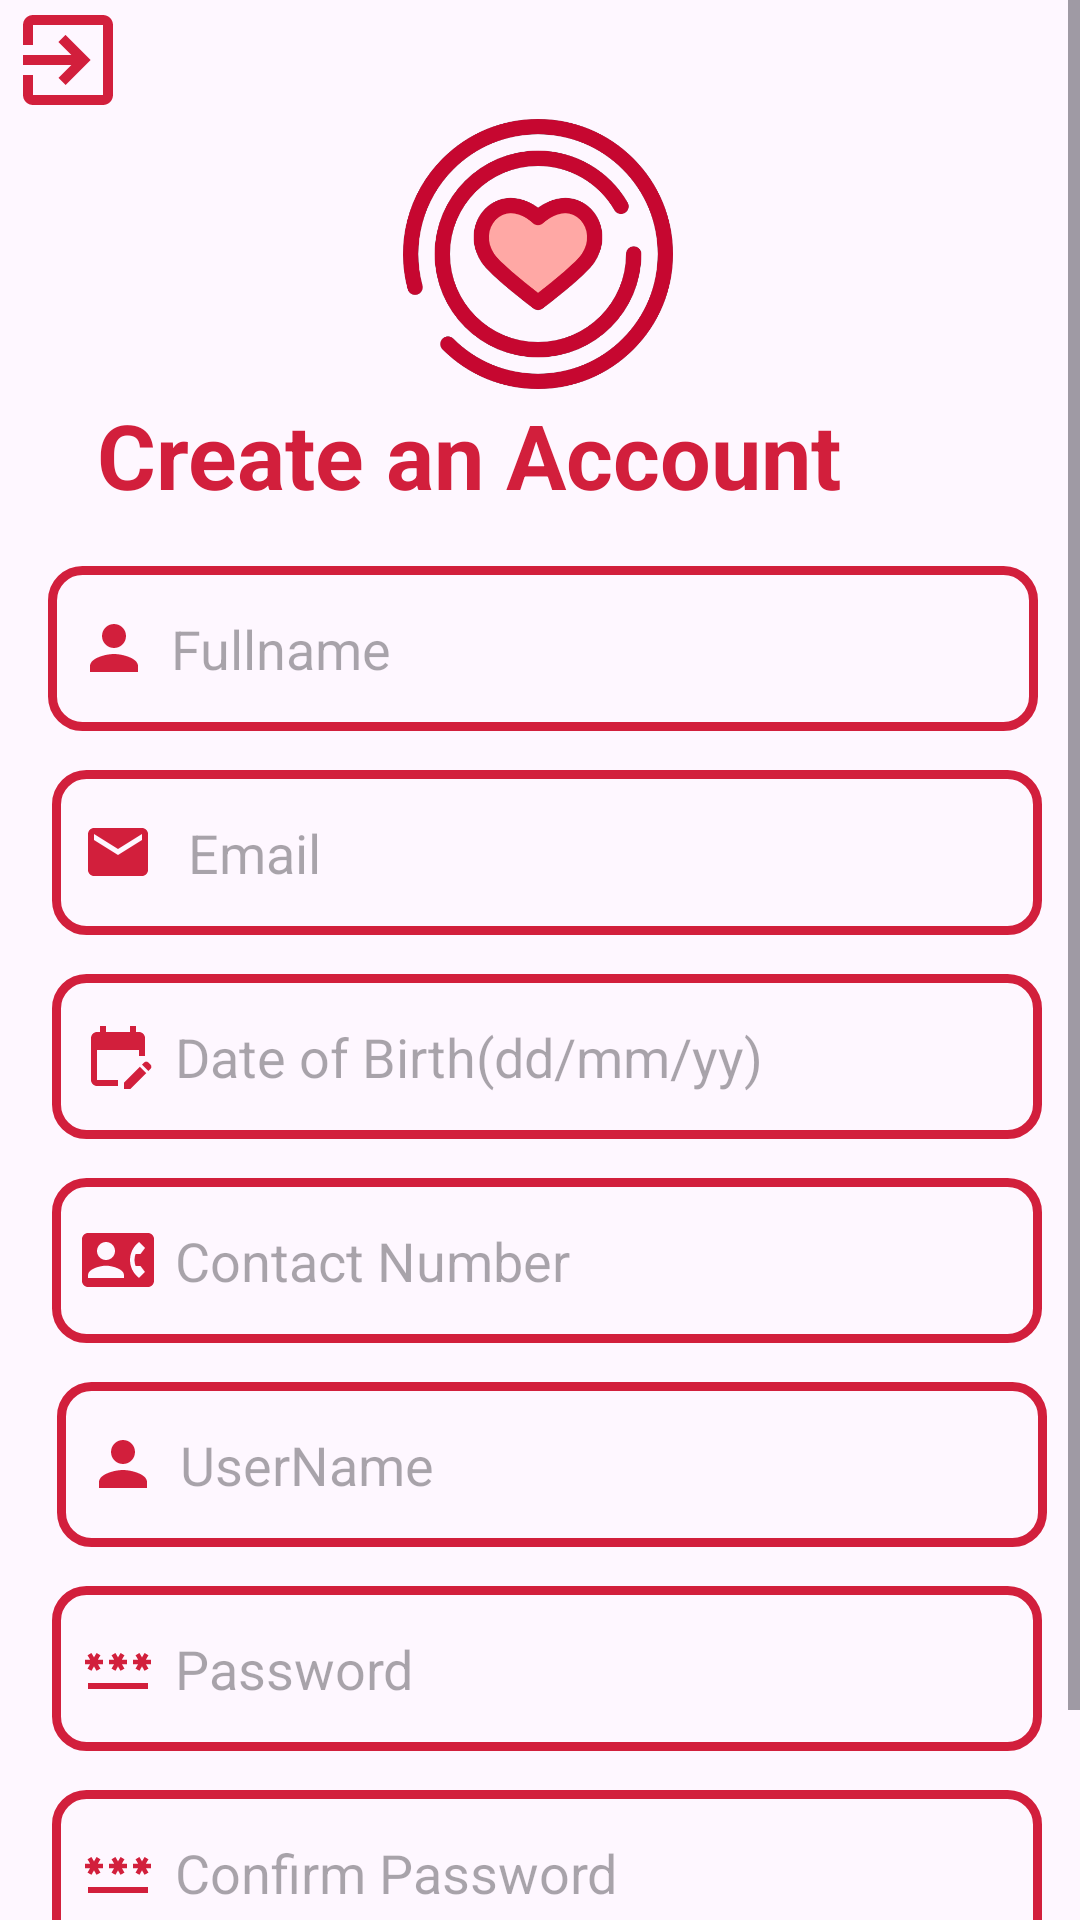

Screen size 1080px x 1920px. Icon name, then its box in pixels as (x1, y1, x2, y2):
exit to app: (23, 15, 113, 105)
